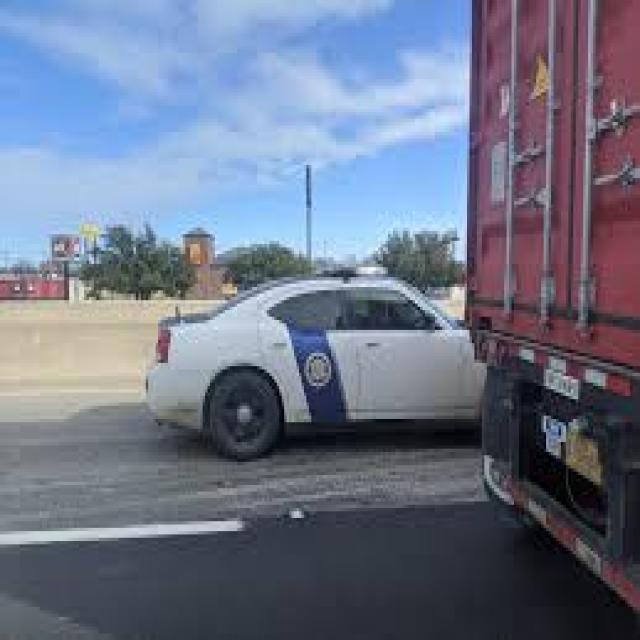cop: (146, 270, 484, 460)
